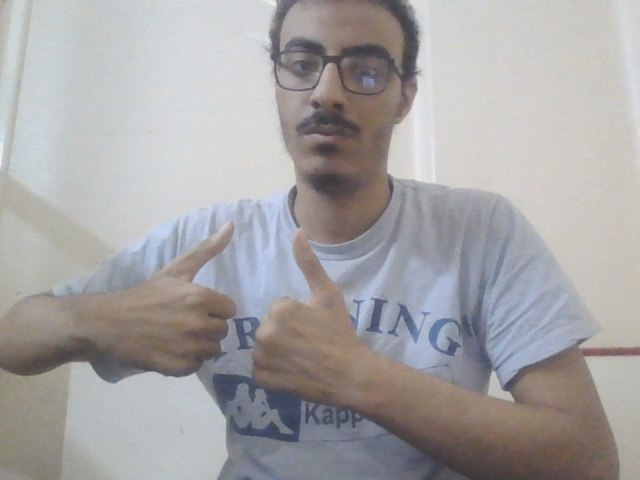Game: (104, 215, 383, 409)
